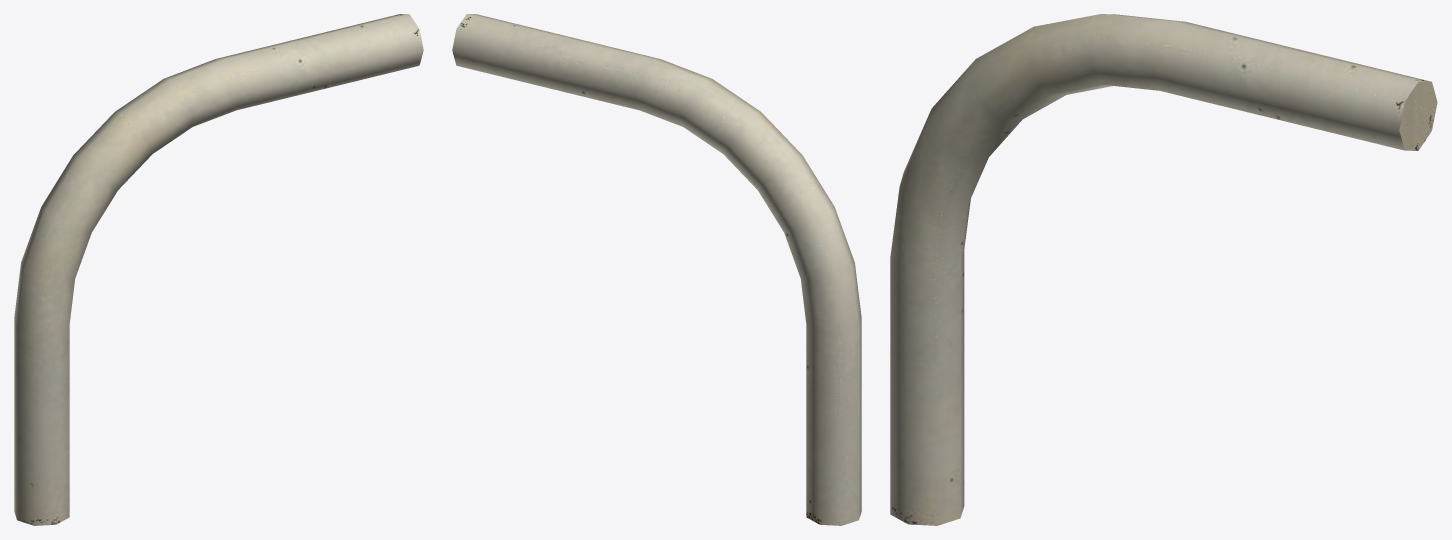
Rendered from pipe_bend_90_lod1_web.glb.
3 renders of one model, left to right at view 1: azimuth 30°, elevation 25°; view 2: azimuth 150°, elevation 25°; view 3: azimuth 330°, elevation 25°, orthographic. The views are drawn at different scales.
Parts seen in each view (by area): view 1: PipeBend90_Body; view 2: PipeBend90_Body; view 3: PipeBend90_Body.
Part boxes in pixels (x1,y1,x2,y2): PipeBend90_Body: [14, 14, 423, 525]; PipeBend90_Body: [452, 14, 861, 525]; PipeBend90_Body: [890, 14, 1437, 525].
Size of the model in its own units: 0.2135 by 0.2135 by 0.027.
Materials: 1 (1 with a texture image).
